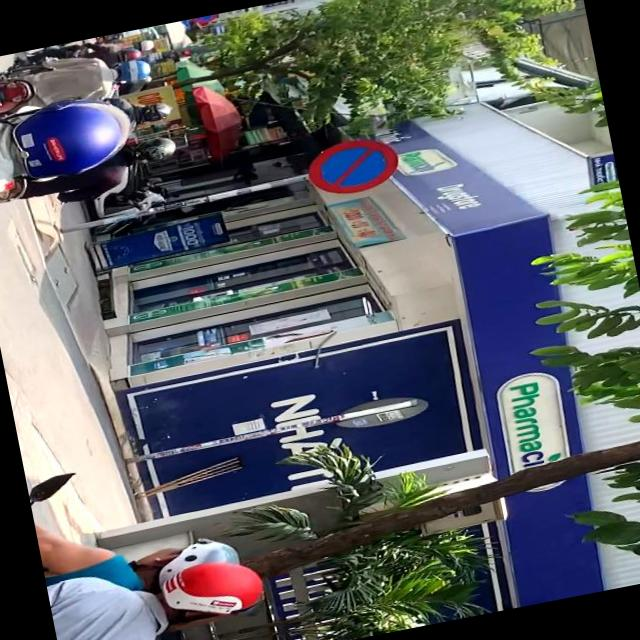P-131a: (304, 132, 402, 200)
